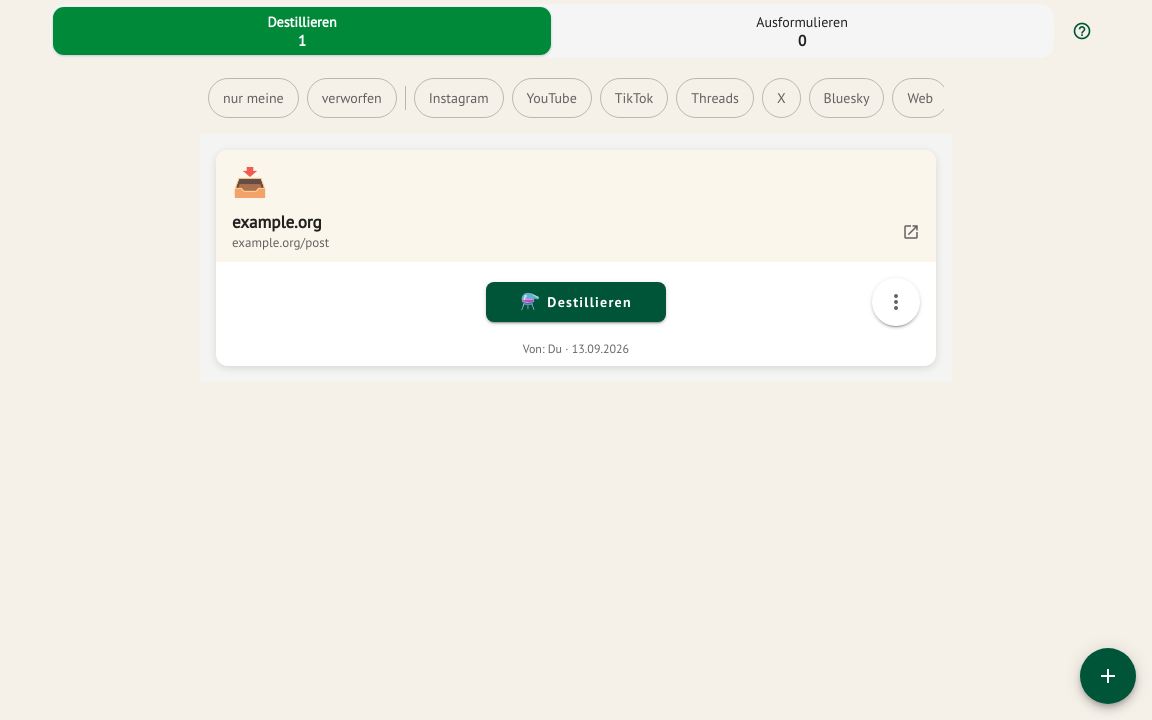
Test: RawInputListComponent › Tab-Zuordnung › sagt im leeren Tab "Ausformulieren" in einer Zeile, dass dort nichts liegt
Step 1. Click the tab with class "tab" showing "Ausformulieren 0" → point(802, 31), box [553,7,1051,55]
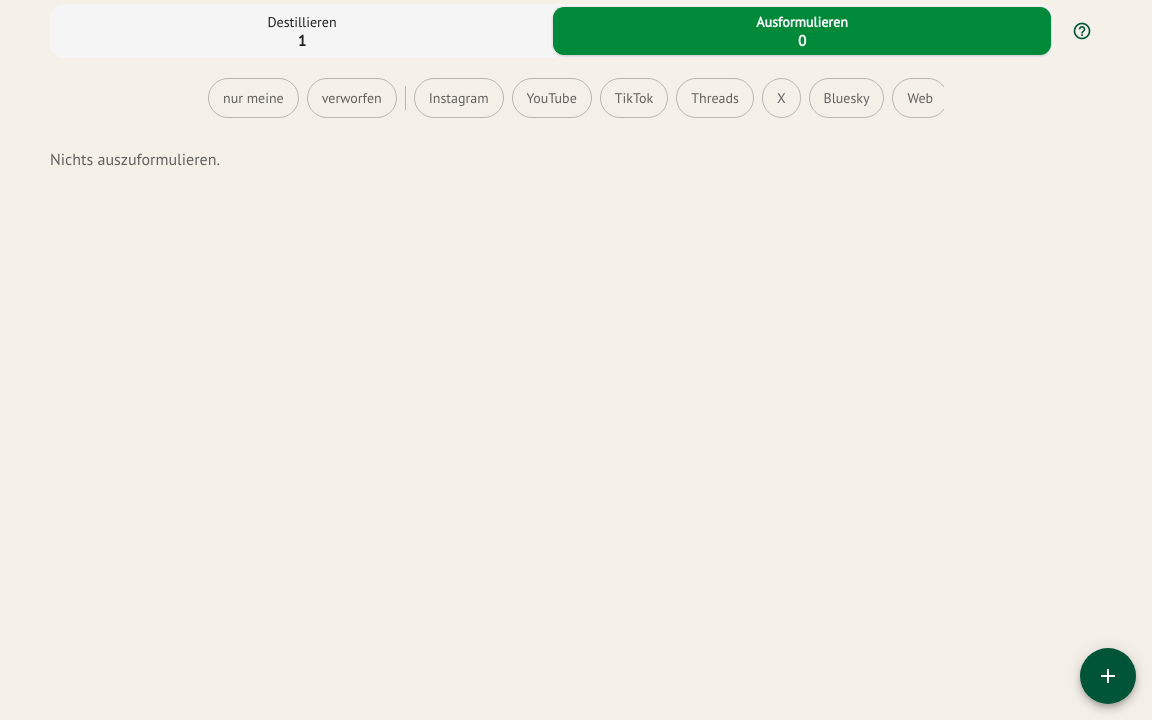
Now the text with class "fangkorb-leer" reads "Nichts auszuformulieren.", box [50,151,220,169]
